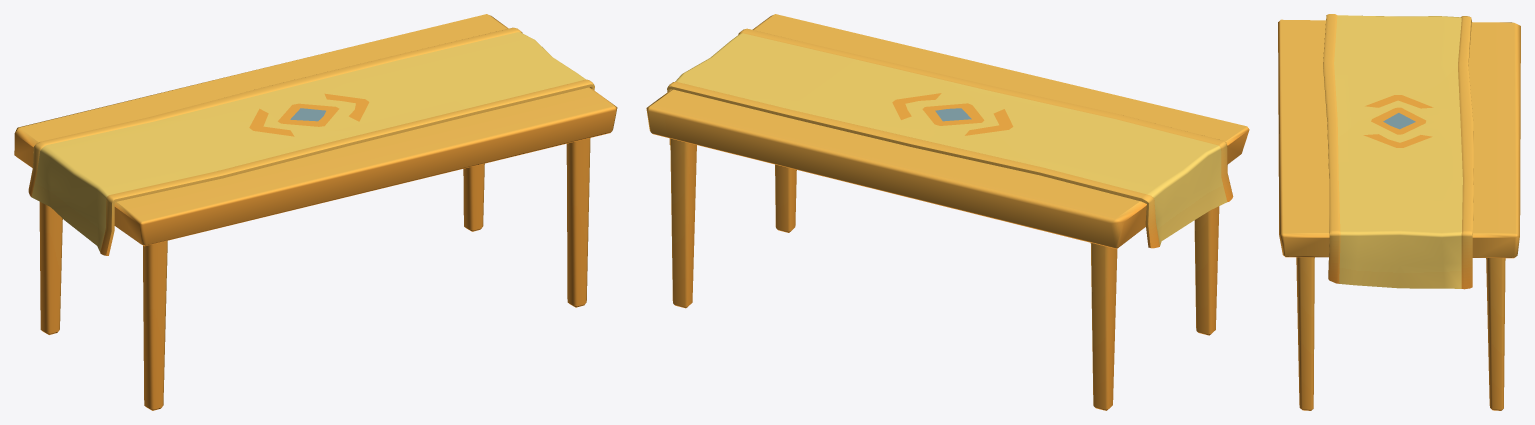
The model's file is P_TableGold.glb.
The picture shows the model from 3 angles, left to right: view 1: azimuth 30°, elevation 25°; view 2: azimuth 150°, elevation 25°; view 3: azimuth 270°, elevation 25°; orthographic projection. The views are drawn at different scales.
Visible parts, largest first — view 1: P_TableGold; view 2: P_TableGold; view 3: P_TableGold.
Boxes of the visible parts, x1,y1,x2,y2 form: P_TableGold: [14, 14, 617, 410]; P_TableGold: [646, 14, 1249, 410]; P_TableGold: [1278, 14, 1520, 410].
Size of the model in its own units: 22.09 by 8.82 by 10.13.
Materials: 1 (1 with a texture image).
